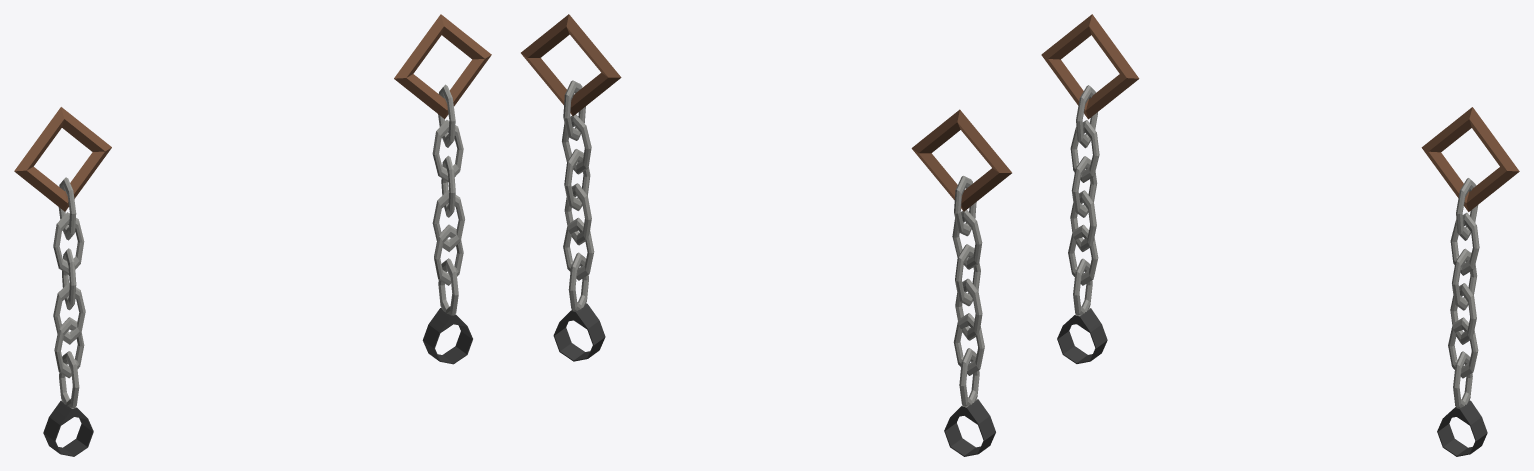
The model's file is Chaine murale 3.fbx.
3 views of the same model, side by side, from view 1: azimuth 30°, elevation 25°; view 2: azimuth 150°, elevation 25°; view 3: azimuth 330°, elevation 25° (orthographic). The views are drawn at different scales.
Visible parts, largest first — view 1: polySurface142, transform174_13; view 2: transform174_13, polySurface142; view 3: transform174_13, polySurface142.
Part boxes in pixels (x1,y1,x2,y2): polySurface142: (394,14,491,364); transform174_13: (14,107,111,456); transform174_13: (911,109,1011,456); polySurface142: (521,14,621,361); transform174_13: (1041,14,1139,363); polySurface142: (1421,107,1519,456).
Size of the model in its own units: 243 by 165 by 17.56.
